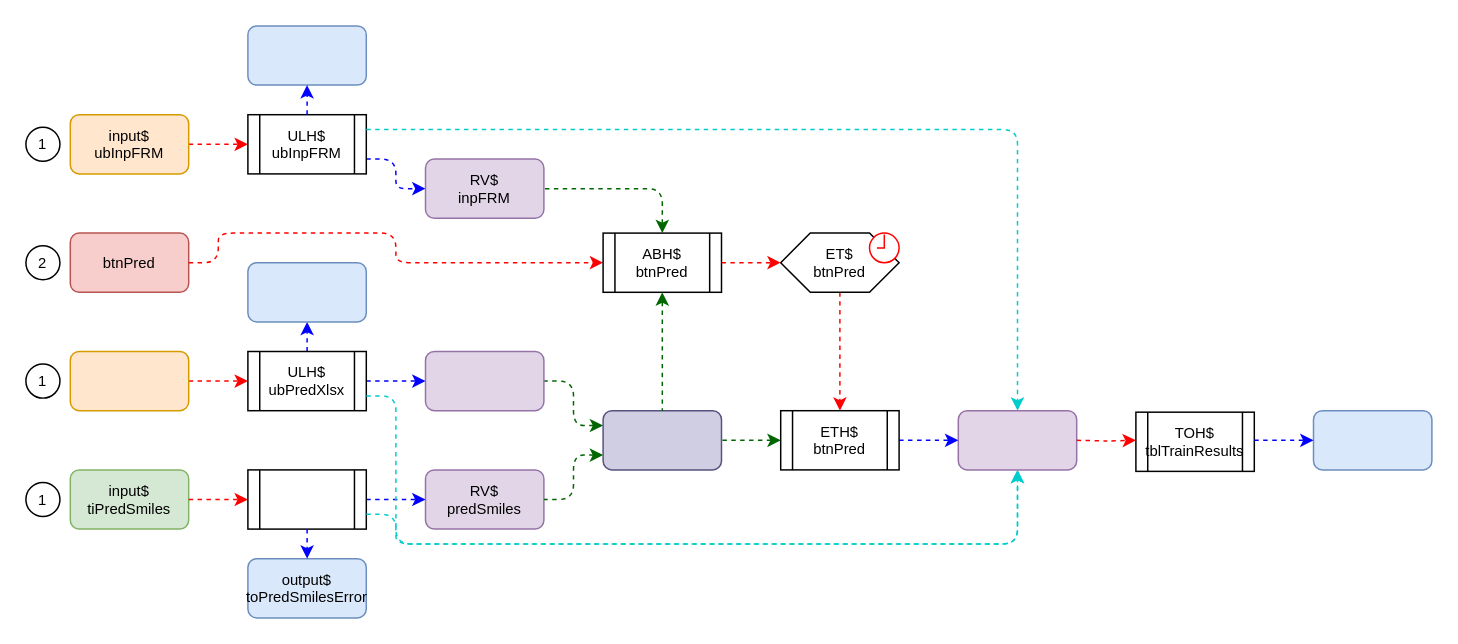
This 1458x644 diagram has some shape labels left out. The centre of each missing label's shape, as x and y in pixels:
"input$ ubPredXlsx" belongs at [129,380].
"IPH$ tiPredSmiles" belongs at [306,498].
"output$ tblPredResults" belongs at [1372,439].
"output$ toInpFRMError" belongs at [306,54].
"output$ toPredXlsxError" belongs at [306,291].
"R$ predDfCombined" belongs at [662,439].
"RV$ predDf" belongs at [484,380].
"RV$ tblPredResults" belongs at [1017,439].
